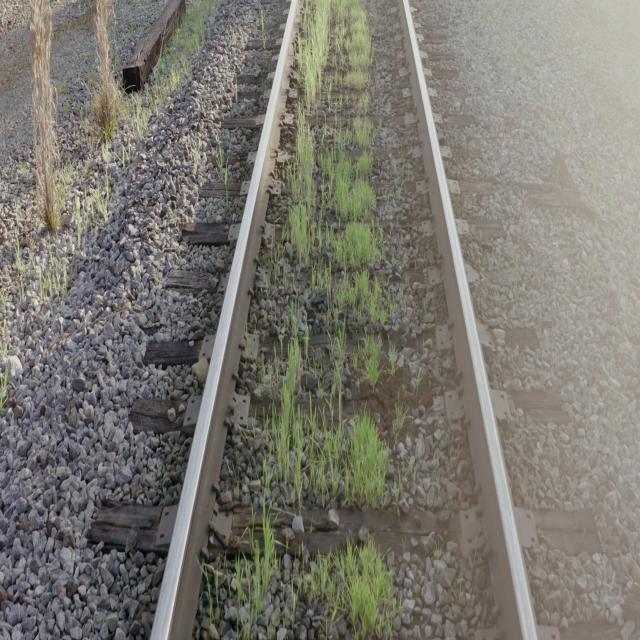Plant: (262, 0, 391, 509), (310, 540, 395, 638), (336, 540, 394, 640), (251, 511, 276, 611)
